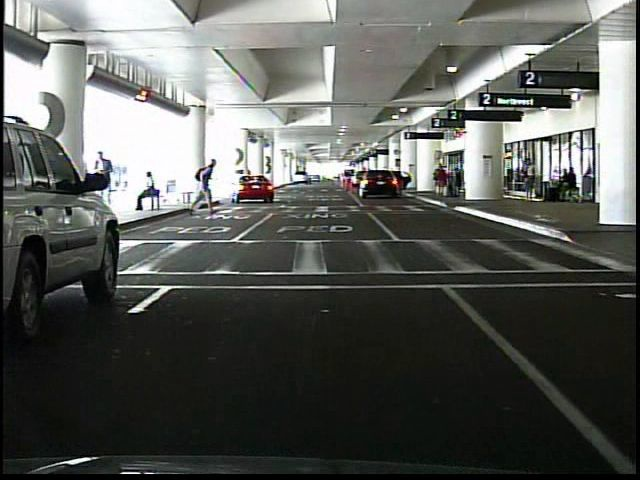person: (187, 159, 221, 216), (92, 146, 118, 216), (136, 171, 162, 212), (432, 163, 450, 199), (525, 156, 539, 200)
